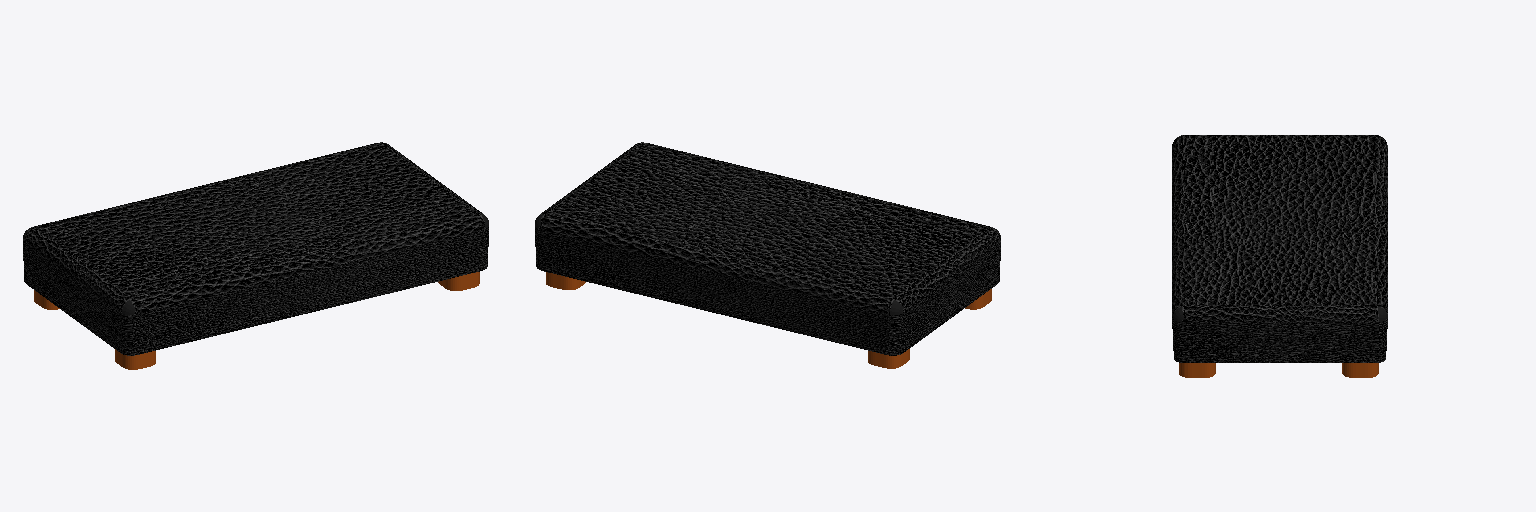
3 renders of one model, left to right at view 1: azimuth 30°, elevation 25°; view 2: azimuth 150°, elevation 25°; view 3: azimuth 270°, elevation 25°, orthographic.
Parts seen in each view (by area): view 1: Box001, Box004; view 2: Box001, Box005; view 3: Box001, Box003, Box002.
Part boxes in pixels (bbox=[...]): Box001: bbox=[23, 142, 488, 355]; Box004: bbox=[115, 349, 155, 369]; Box001: bbox=[535, 142, 1000, 355]; Box005: bbox=[868, 349, 909, 368]; Box001: bbox=[1172, 135, 1387, 362]; Box003: bbox=[1179, 363, 1215, 377]; Box002: bbox=[1342, 363, 1378, 377].
Size of the model in its own units: 6.19 by 1.15 by 3.15.
Materials: 2 (1 with a texture image).